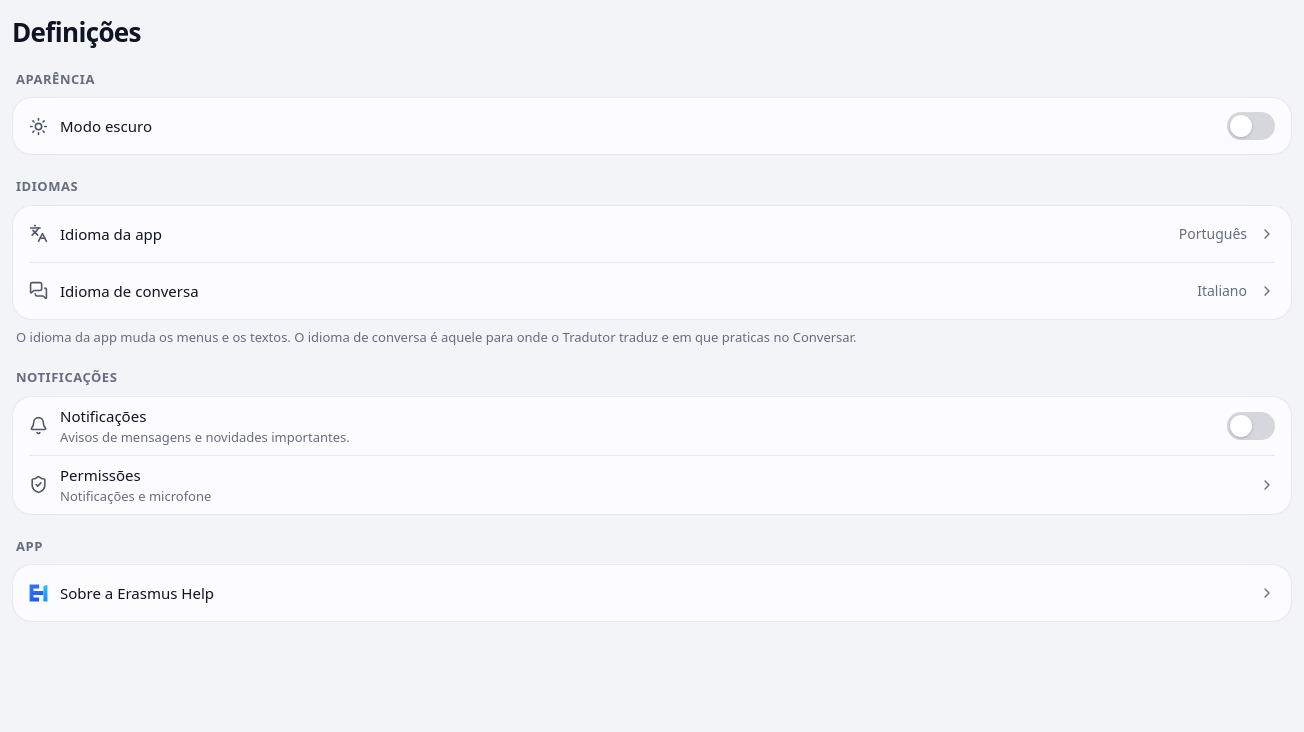
Scenario: SettingsPage › stays off and explains how to re-enable when the permission is denied
Click the switch labelled "Notificações Avisos de mensagens e novidades importantes." at (103, 416), box [13,397,1291,455]
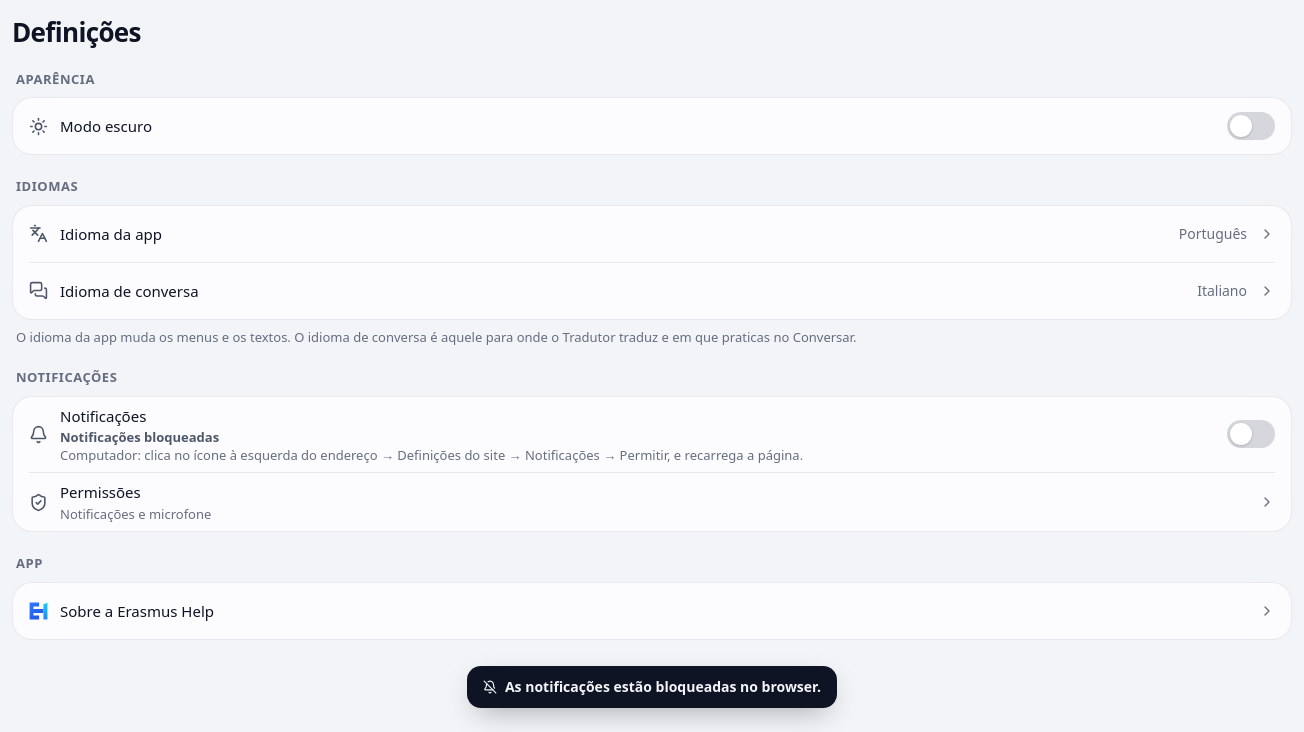
expect the text "As notificações estão bloqueadas no browser." is shown: met, box [505,677,821,697]
expect the text "Notificações bloqueadas" is shown: met, box [60,428,219,446]
